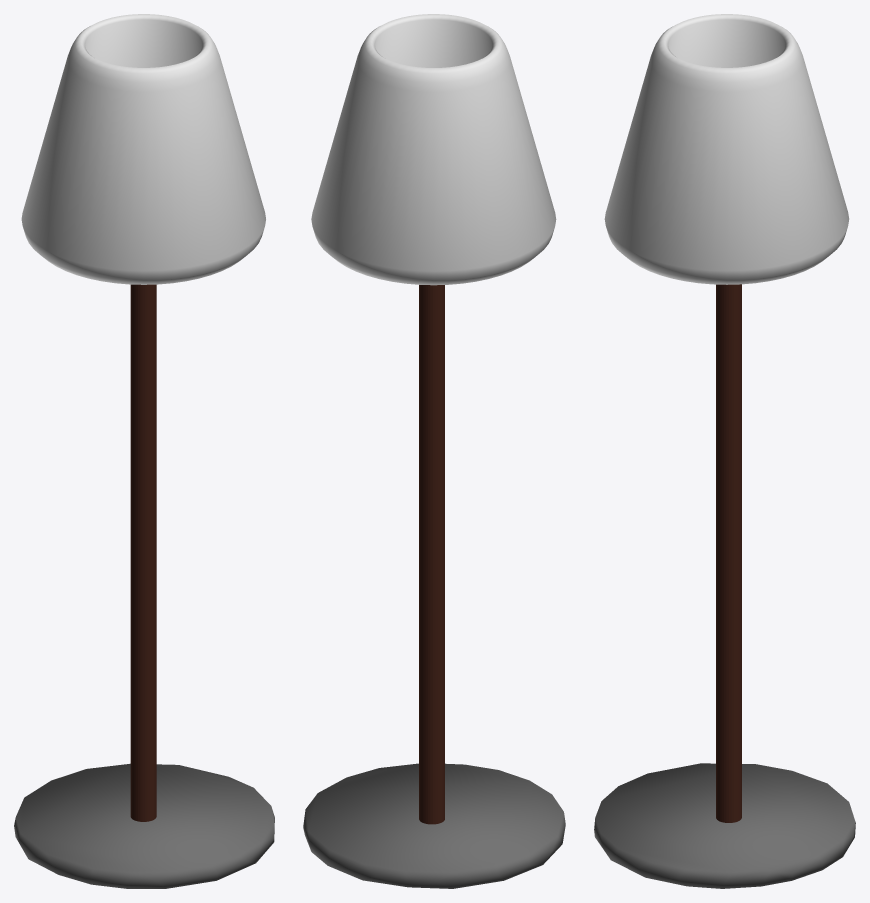
File: Lamp_17-Dec.fbx
3 views of the same model, side by side, from view 1: azimuth 30°, elevation 25°; view 2: azimuth 150°, elevation 25°; view 3: azimuth 270°, elevation 25° (orthographic).
Parts seen in each view (by area): view 1: Torus, Muuto_Pull_Floor_Lamp_low, Cylinder.014; view 2: Torus, Muuto_Pull_Floor_Lamp_low, Cylinder.014; view 3: Torus, Muuto_Pull_Floor_Lamp_low, Cylinder.014.
Part boxes in pixels (x1,y1,x2,y2): Torus: (21, 14, 265, 284); Muuto_Pull_Floor_Lamp_low: (14, 763, 274, 888); Cylinder.014: (130, 284, 156, 821); Torus: (311, 14, 556, 285); Muuto_Pull_Floor_Lamp_low: (303, 763, 565, 888); Cylinder.014: (419, 285, 444, 824); Torus: (604, 14, 849, 284); Muuto_Pull_Floor_Lamp_low: (594, 763, 855, 888); Cylinder.014: (716, 284, 741, 822).
Size of the model in its own units: 73.7 by 246 by 73.54.
